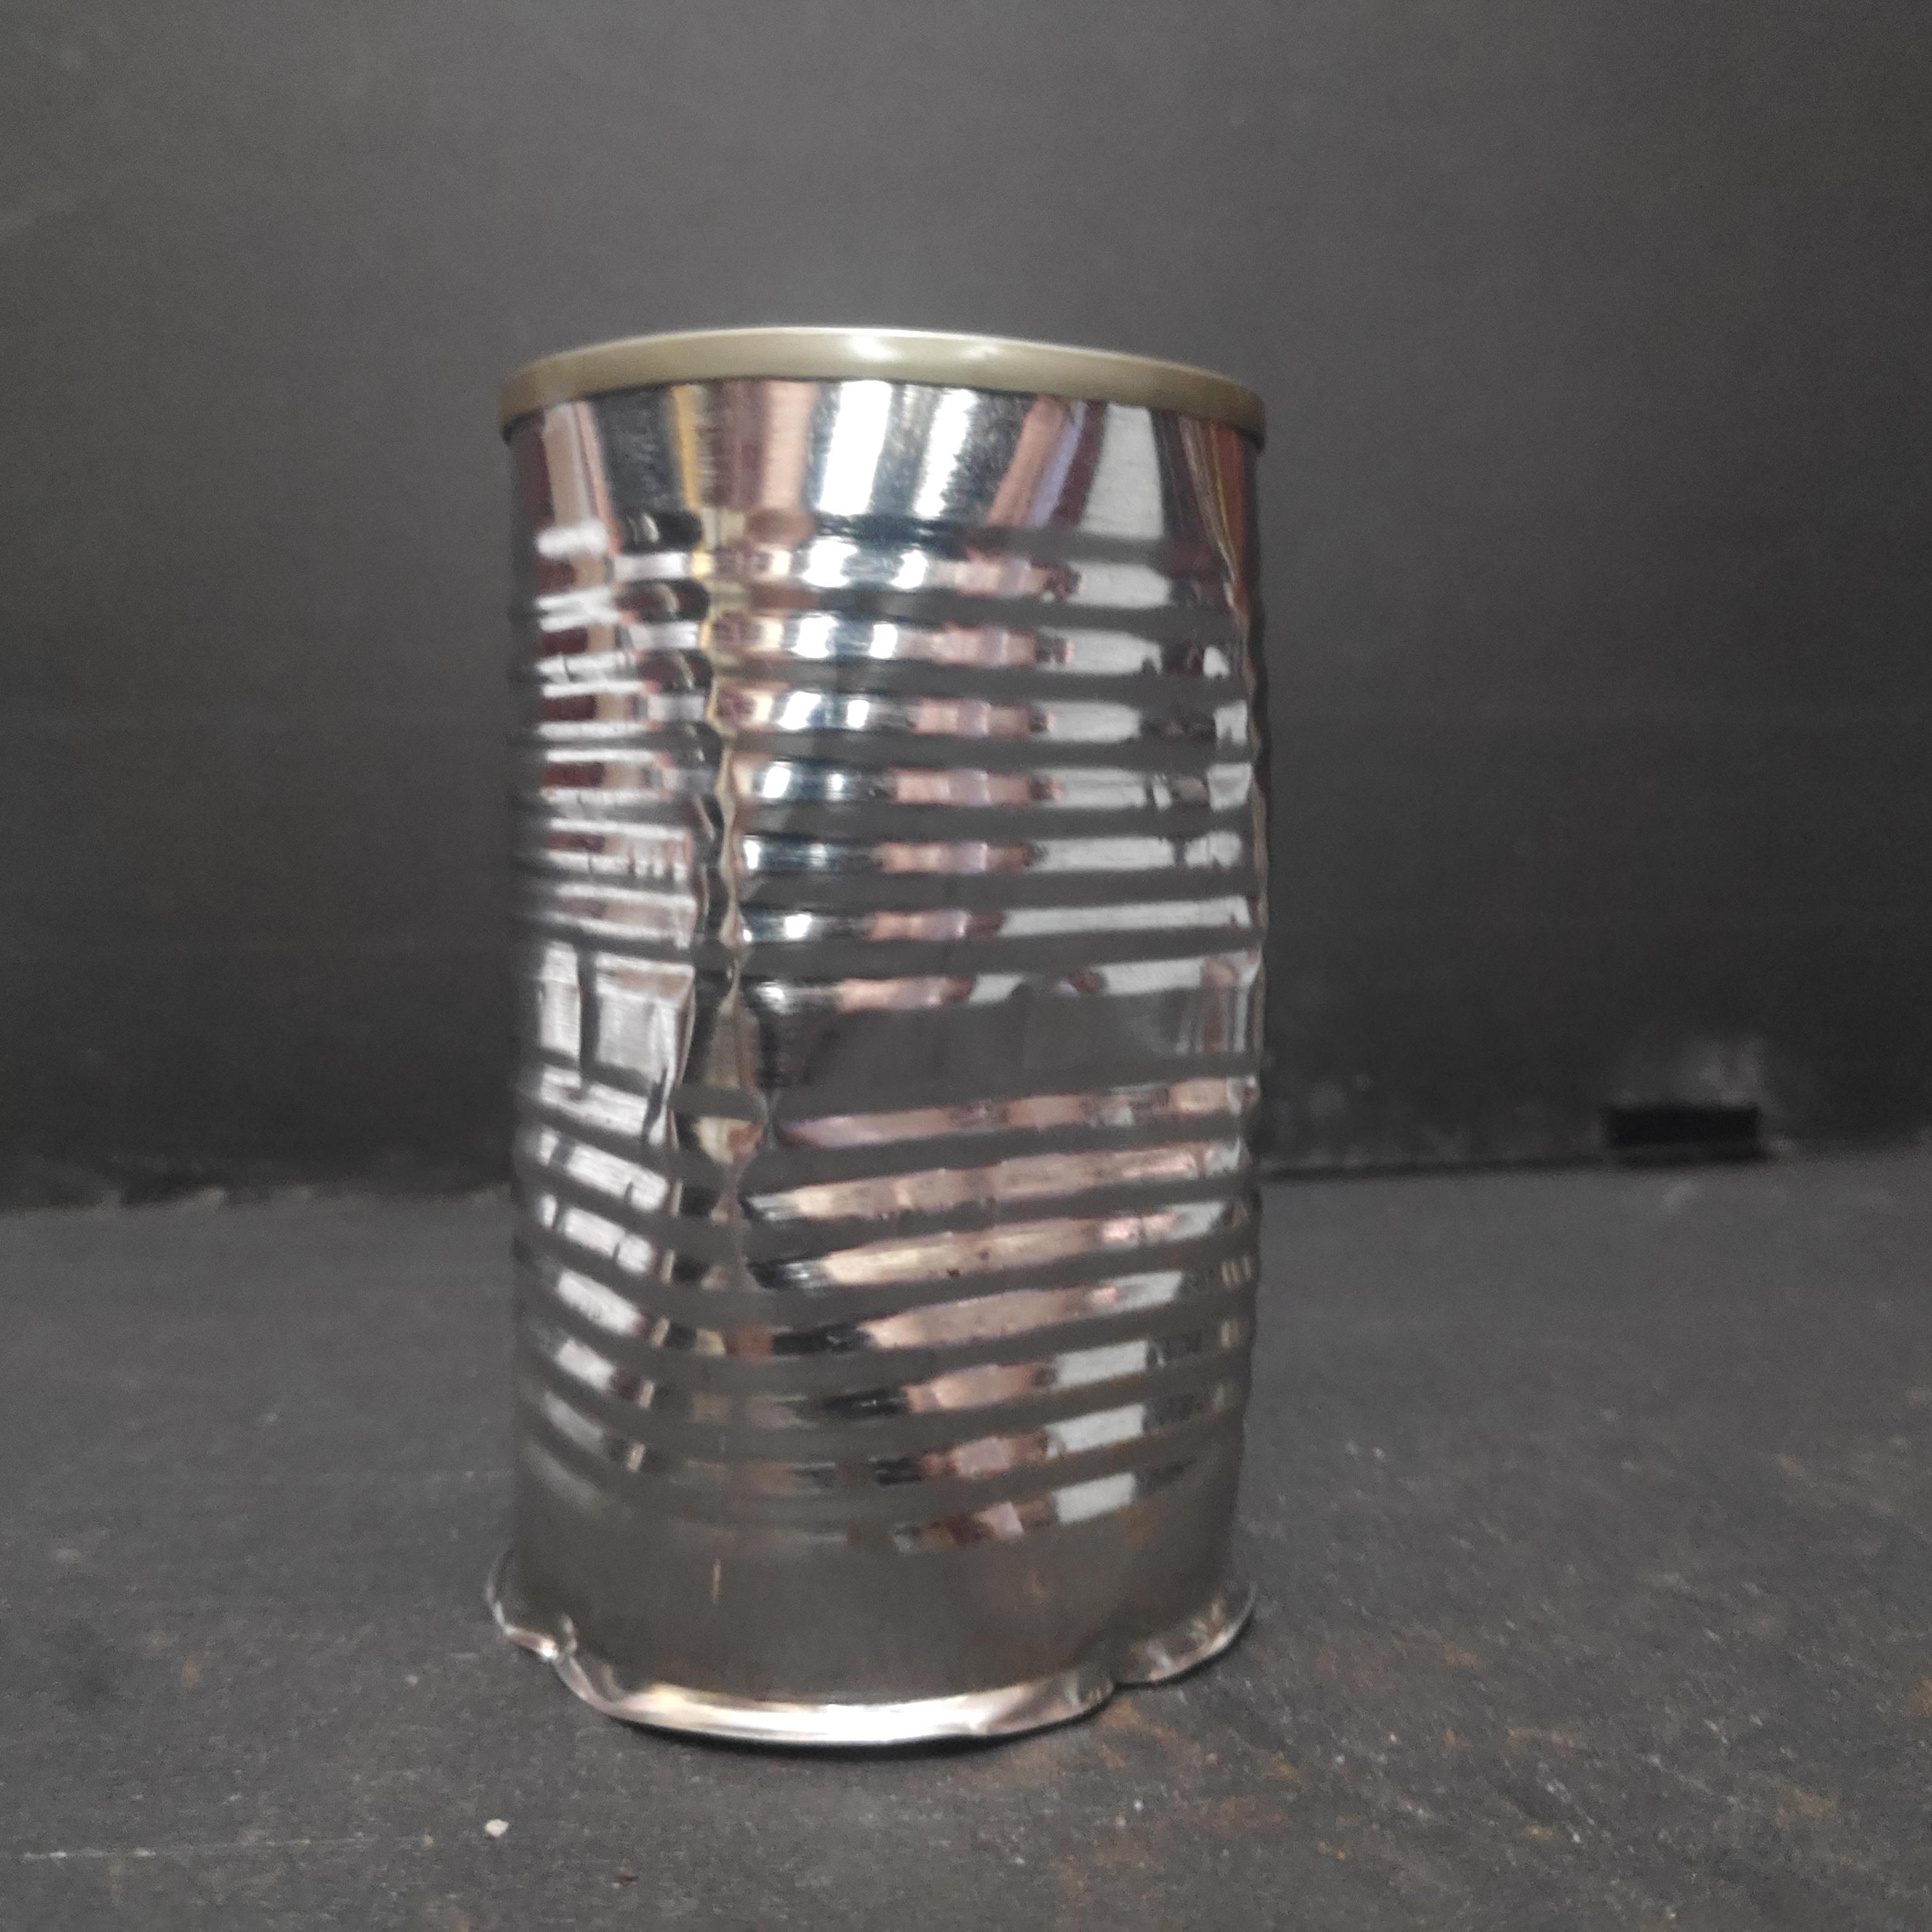Minor Defect: (478, 320, 1292, 1769)
